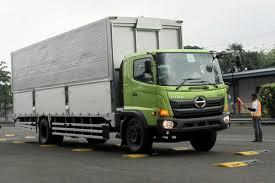truck: (108, 41, 246, 158)
